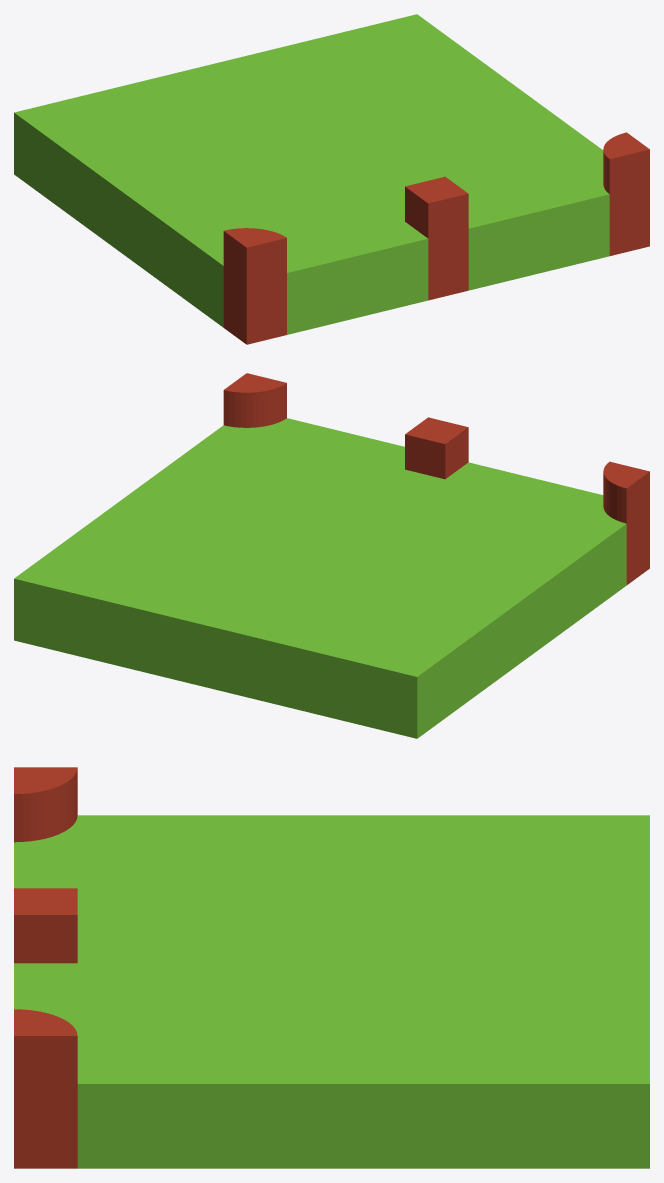
File: Split_Walls_To_Open.FBX
3 views of the same model, one above another, from view 1: azimuth 30°, elevation 25°; view 2: azimuth 150°, elevation 25°; view 3: azimuth 270°, elevation 25° (orthographic). The views are drawn at different scales.
Parts seen in each view (by area): view 1: Split_walls_to_open_01, Walls; view 2: Split_walls_to_open_01, Walls; view 3: Split_walls_to_open_01, Walls.
Boxes of the visible parts, left/top/right/bottom form: Split_walls_to_open_01: left=14, top=14, right=609, bottom=334; Walls: left=223, top=132, right=649, bottom=344; Split_walls_to_open_01: left=14, top=418, right=626, bottom=738; Walls: left=223, top=373, right=649, bottom=584; Split_walls_to_open_01: left=14, top=815, right=649, bottom=1168; Walls: left=14, top=767, right=77, bottom=1168.
Size of the model in its own units: 0.9999 by 0.9999 by 0.23.
